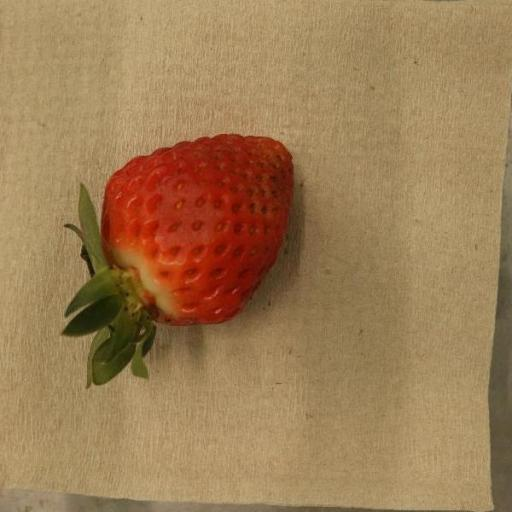Strawberry: (61, 134, 295, 389)
